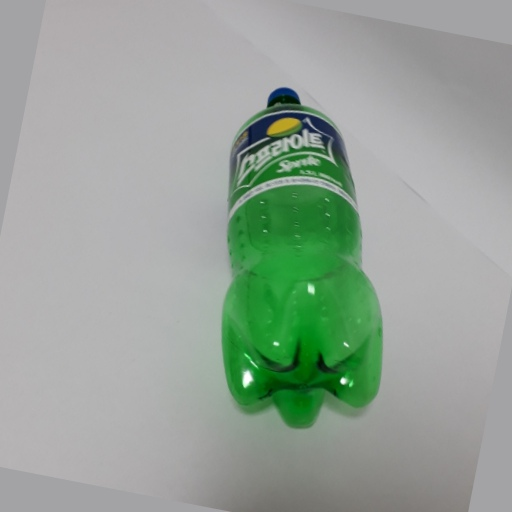Plastic_0: (215, 81, 390, 429)
